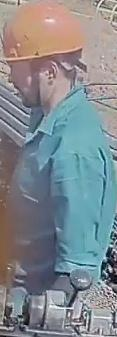helmet: (0, 0, 84, 69)
vest: (7, 86, 116, 293)
